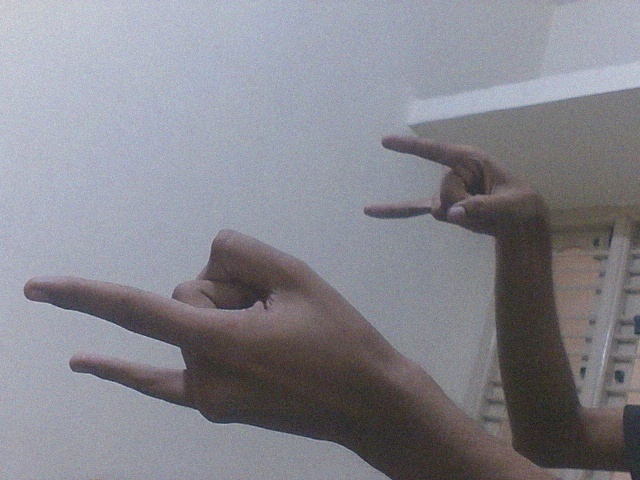hand: (21, 224, 402, 446), (361, 131, 550, 239)
